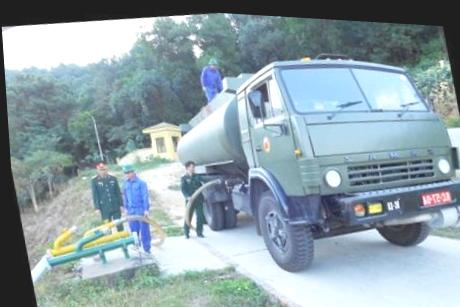License_Plate: (420, 186, 454, 212)
